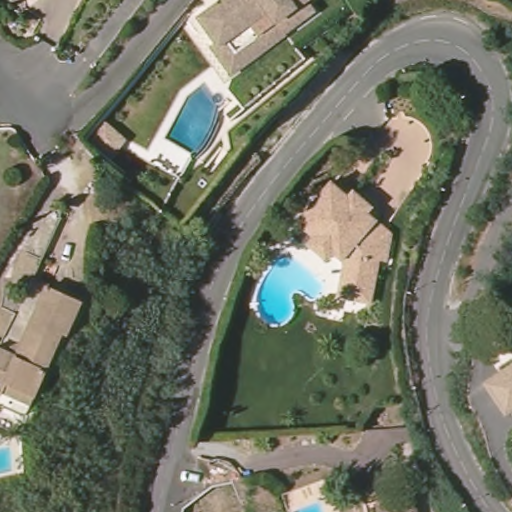pool: (255, 256, 323, 330), (165, 80, 222, 157), (1, 441, 19, 479)
